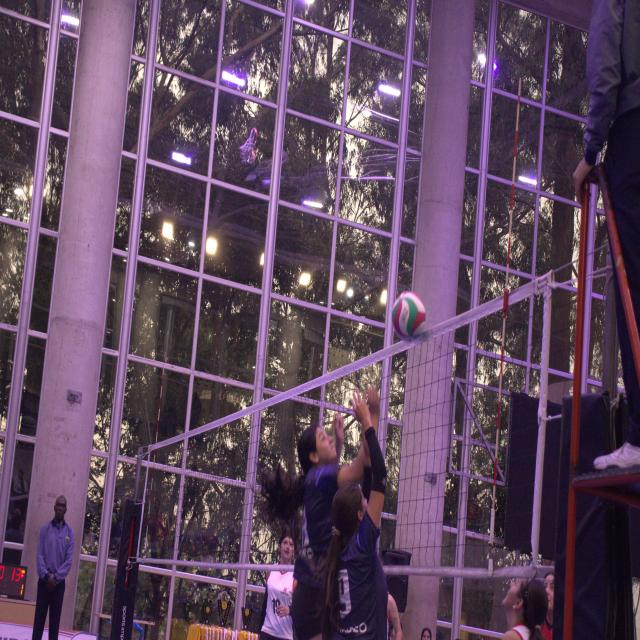volleyball: (393, 292, 428, 344)
